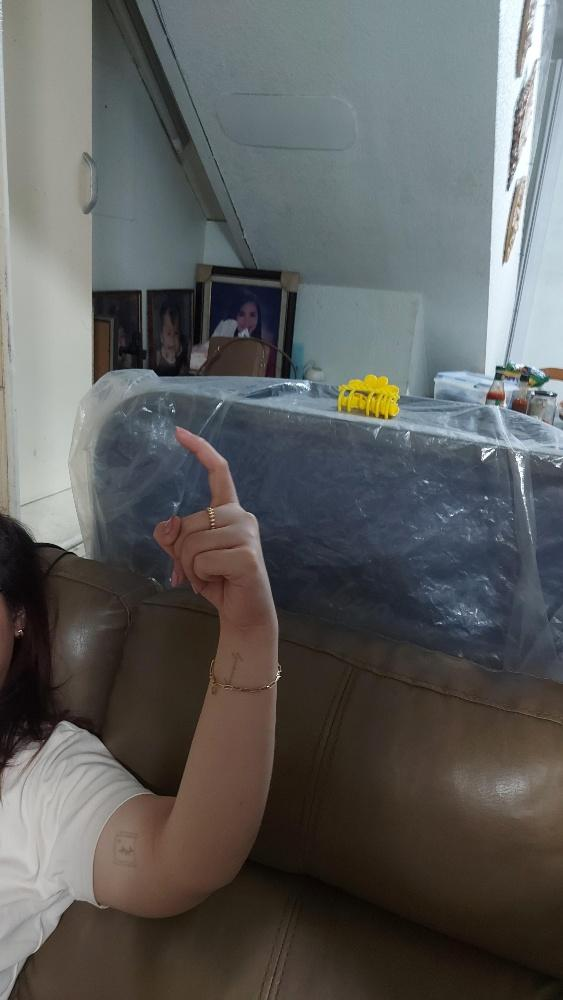x: (151, 425, 274, 627)
